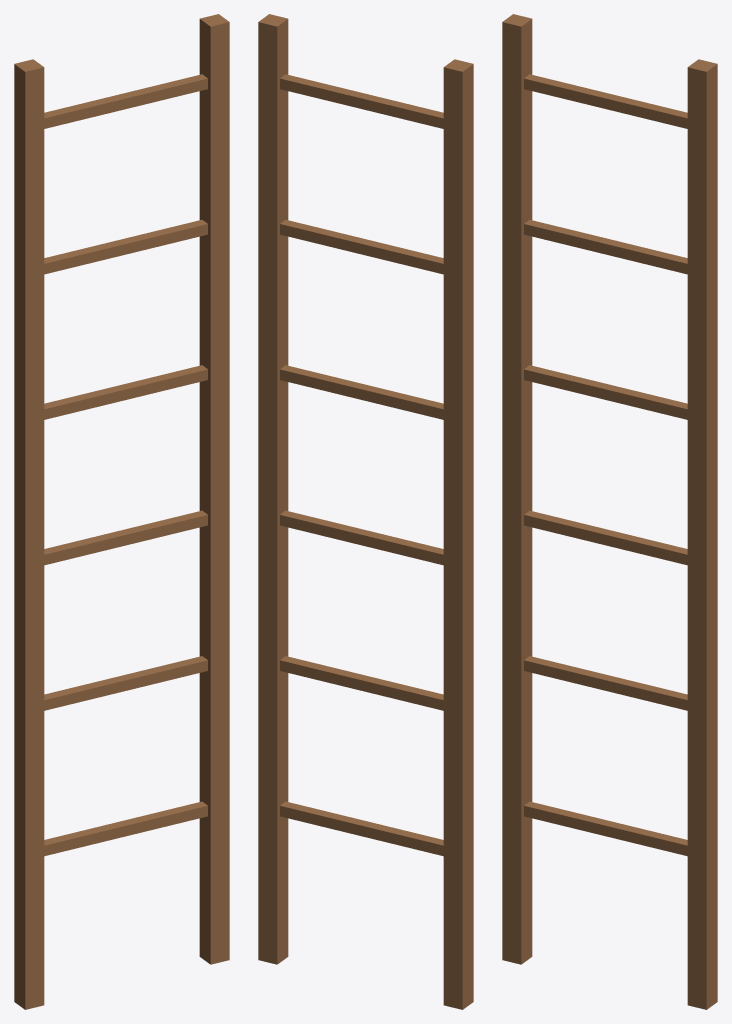
Rendered from Ladder_1 Small.fbx.
3 renders of one model, left to right at view 1: azimuth 30°, elevation 25°; view 2: azimuth 150°, elevation 25°; view 3: azimuth 330°, elevation 25°, orthographic.
Visible parts, largest first — view 1: Ladder1Small_mesh; view 2: Ladder1Small_mesh; view 3: Ladder1Small_mesh.
Part boxes in pixels (x1,y1,x2,y2): Ladder1Small_mesh: (14,14,229,1009); Ladder1Small_mesh: (258,14,473,1009); Ladder1Small_mesh: (502,14,717,1009).
Size of the model in its own units: 94.14 by 413 by 8.78.
